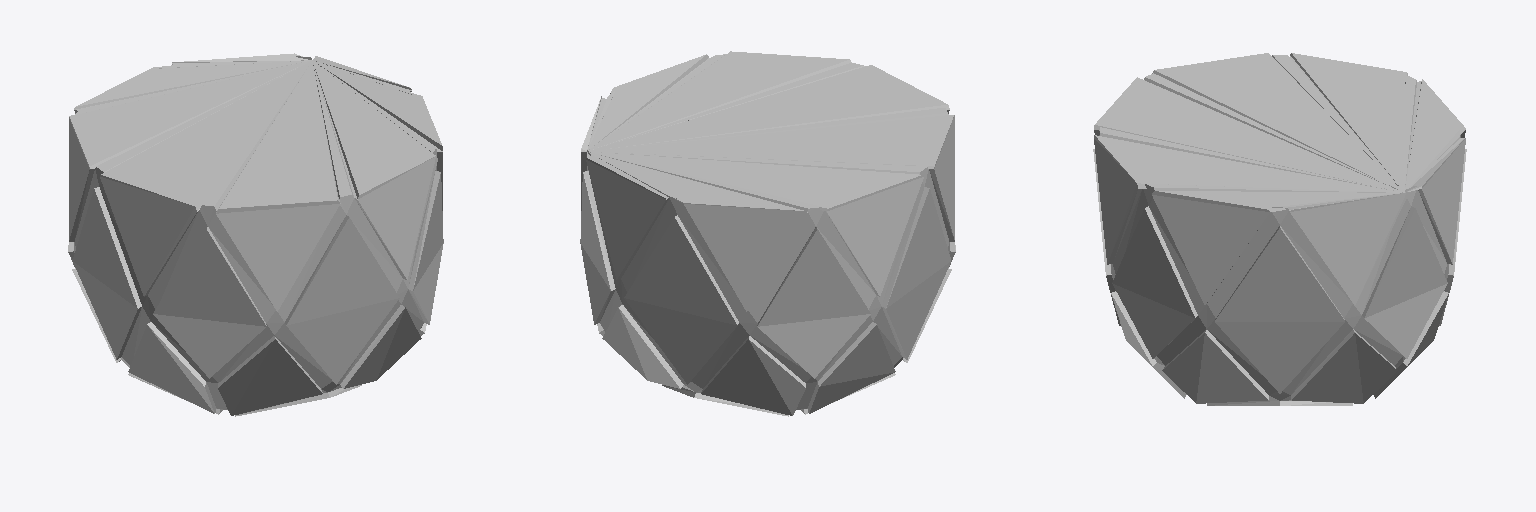
Rendered from pineapple_bottom.obj.
3 renders of one model, left to right at view 1: azimuth 30°, elevation 25°; view 2: azimuth 150°, elevation 25°; view 3: azimuth 270°, elevation 25°, orthographic.
Parts seen in each view (by area): view 1: pineapple_bottom; view 2: pineapple_bottom; view 3: pineapple_bottom.
Part boxes in pixels (left/top/right/bottom): pineapple_bottom: left=68, top=53, right=443, bottom=416; pineapple_bottom: left=580, top=51, right=955, bottom=416; pineapple_bottom: left=1093, top=53, right=1466, bottom=405.
Bounding box in the file's own units: 1.5 × 1.12 × 1.5.